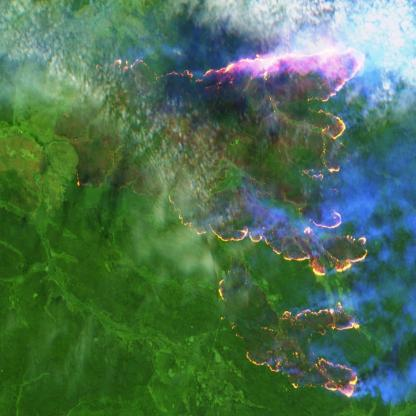fire: (91, 26, 371, 278), (238, 293, 366, 403)
